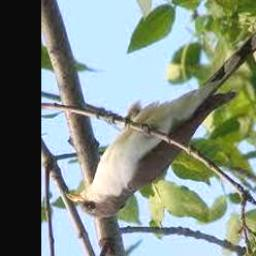Cuckoo: (65, 22, 256, 217)
